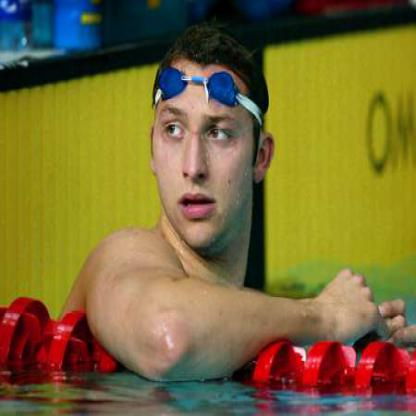face: (155, 34, 258, 252)
